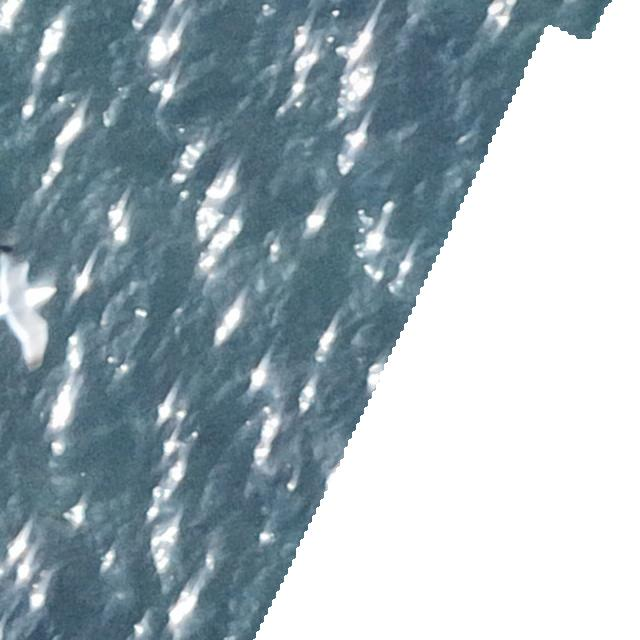F: (0, 258, 58, 356)
